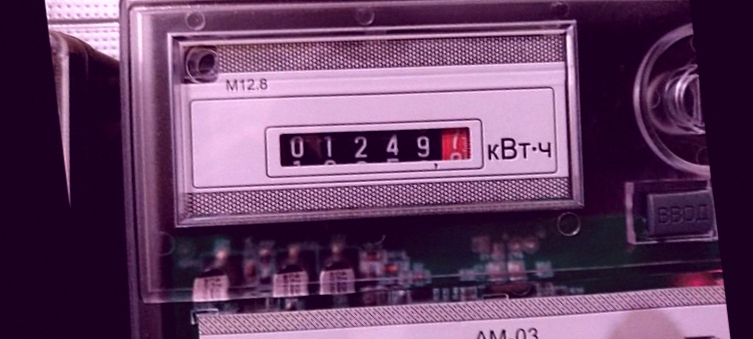0: (288, 133, 308, 160)
1: (320, 132, 337, 160)
2: (350, 134, 370, 162)
4: (383, 131, 402, 158)
7: (447, 125, 465, 152)
9: (412, 133, 432, 160)
screen: (259, 99, 490, 198)
